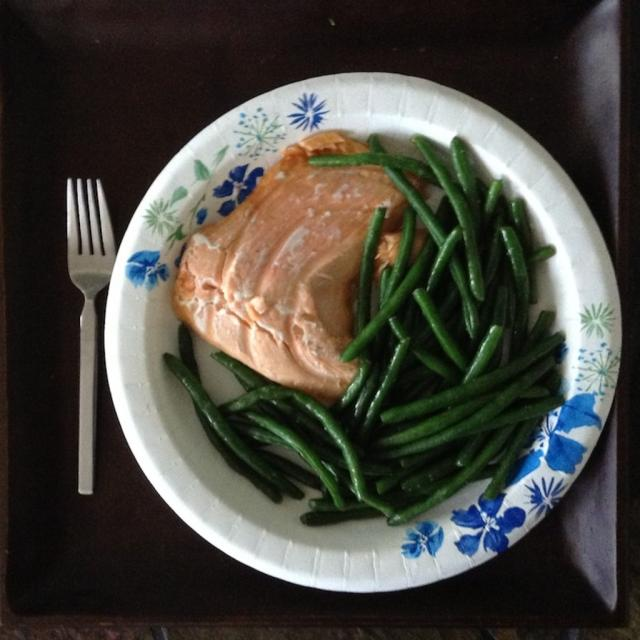non-organic waste: (104, 72, 626, 605)
